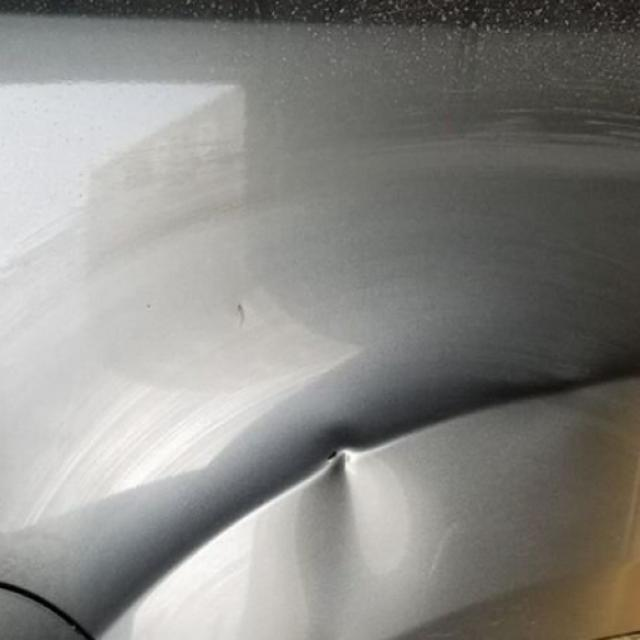dents: (260, 405, 456, 634)
